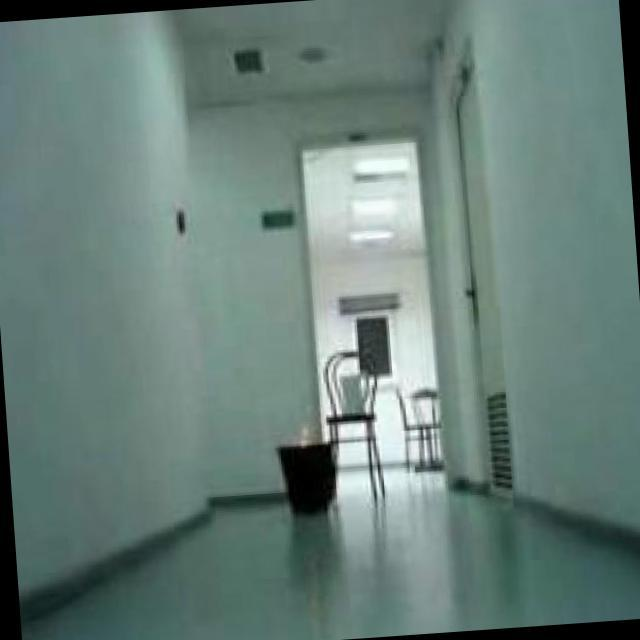Fire: (286, 423, 310, 452)
